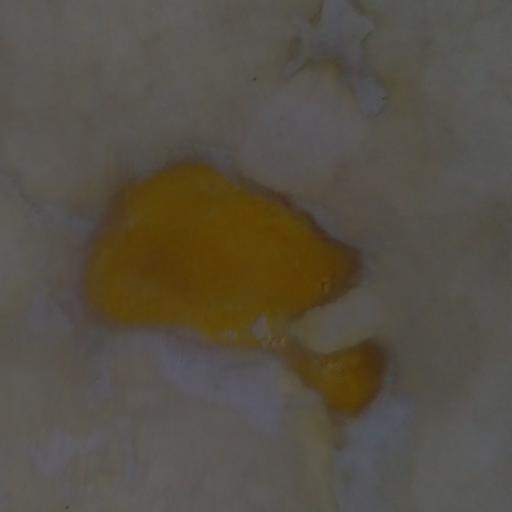algae: (84, 116, 440, 472)
